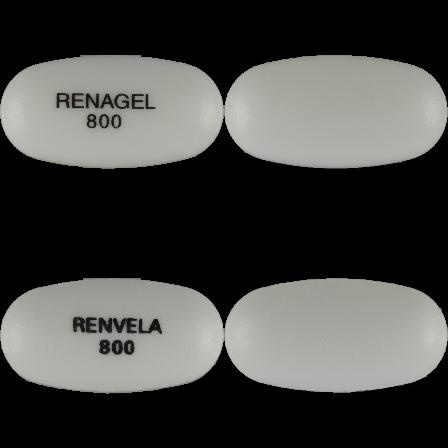55154-9727: (0, 0, 224, 224)
